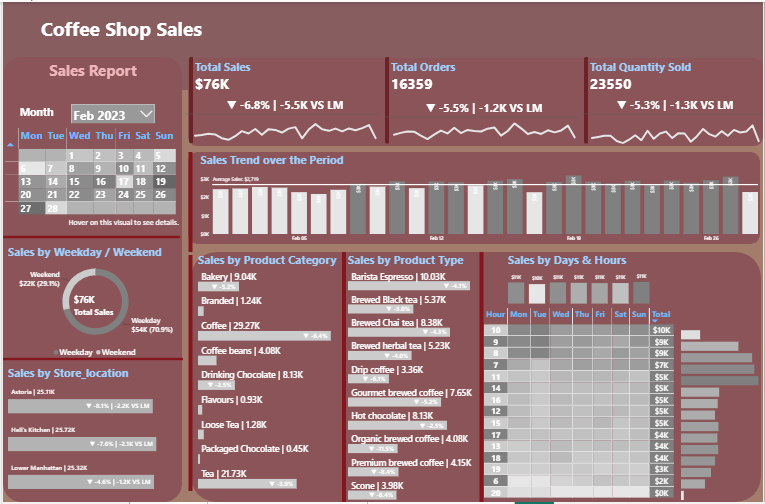

This screenshot's page, from the dashboard's own definition file:
{"tool":"powerbi","page":{"name":"Report","canvas":[1900,1250],"ordinal":0},"visuals":[{"type":"shape","box":[0,0,1900,220],"z":0},{"type":"cardVisual","fields":{"Data":["Transactions.Total Quantity Sold"]},"box":[1438.3,137.5,456.7,217.8],"z":0,"group":"g3"},{"type":"shape","box":[0,137.5,447.5,1112.5],"z":1000},{"type":"group","id":"g1","title":"Group 1","box":[450,137.5,492.9,215.5],"z":1000,"group":"g3"},{"type":"group","id":"g2","title":"Group 1","box":[939.5,137.5,498.5,222.5],"z":2000,"group":"g3"},{"type":"shape","box":[462.5,140,1437.5,220],"z":2000},{"type":"textbox","box":[85,27.5,465,82.5],"z":3000},{"type":"lineChart","fields":{"Category":["Date Table.Date Hierarchy.Date"],"Y":["Transactions.Total Quantity Sold"]},"box":[1447,238.2,451.7,117.1],"z":3000,"group":"g3"},{"type":"cardVisual","fields":{"Data":["Transactions.Total Sales"]},"box":[450,137.5,489.2,215.5],"z":4000,"group":"g1"},{"type":"cardVisual","fields":{"Data":["Transactions.Total Orders"]},"box":[939.5,137.5,491.7,217.8],"z":4000,"group":"g2"},{"type":"slicer","fields":{"Values":["Date Table.Month Year"]},"box":[160,250,225,52.5],"z":4000},{"type":"group","id":"g3","title":"Group 2","box":[450,137.5,1448.8,222.5],"z":5000},{"type":"lineChart","fields":{"Y":["Transactions.Total Sales"],"Category":["Date Table.Date Hierarchy.Date"]},"box":[456.2,238.2,486.7,114.8],"z":6000,"group":"g1"},{"type":"lineChart","fields":{"Category":["Date Table.Date Hierarchy.Date"],"Y":["Transactions.Total Orders"]},"box":[951.4,245.2,486.7,114.8],"z":6000,"group":"g2"},{"type":"pivotTable","fields":{"Rows":["Date Table.Week Number"],"Columns":["Date Table.Day Name"],"Values":["Min(Date Table.Day Number)"]},"box":[0,315,447.5,272.5],"z":6000},{"type":"cardVisual","fields":{"Data":["Min(Transactions.Foot Note)"]},"box":[135,517.5,460,62.5],"z":7000},{"type":"shape","box":[0,550,442.5,75],"z":8000},{"type":"donutChart","title":"Sales by Weekday / Weekend","fields":{"Category":["Date Table.Weekday / Weekend"],"Y":["Transactions.Total Sales"]},"box":[7.5,605,442.5,287.5],"z":9000},{"type":"shape","box":[0,855,450,75],"z":10000},{"type":"cardVisual","fields":{"Data":["Transactions.Total Sales"]},"box":[160,710,275,97.5],"z":11000},{"type":"clusteredBarChart","title":"Sales by Store_location","fields":{"Category":["Transactions.store_location"],"Y":["Transactions.Placeholder","Transactions.Total Sales"]},"box":[7.5,907.5,442.5,320],"z":12000},{"type":"shape","box":[462.5,375,1430,230],"z":13000},{"type":"columnChart","title":"Sales Trend over the Period","fields":{"Category":["Transactions.transaction_date"],"Y":["Transactions.Total Sales"]},"box":[477.5,375,1410,230],"z":14000},{"type":"shape","box":[470,625,1425,625],"z":15000},{"type":"clusteredBarChart","title":"Sales by Product Category","fields":{"Y":["Transactions.Placeholder","Transactions.Total Sales"],"Category":["Transactions.product_category"]},"box":[477.5,625,375,597.5],"z":16000},{"type":"shape","box":[232.5,375,472.5,250],"z":17000},{"type":"shape","box":[237.5,632.5,462.5,590],"z":18000},{"type":"shape","box":[980,625,432.5,625],"z":19000},{"type":"clusteredBarChart","title":"Sales by Product Type","fields":{"Y":["Transactions.Placeholder","Transactions.Total Sales"],"Category":["Transactions.product_type"]},"box":[852.5,625,380,625],"z":20000},{"type":"shape","box":[632.5,625,440,625],"z":21000},{"type":"pivotTable","fields":{"Rows":["Transactions.Hour"],"Columns":["Date Table.Day Name"],"Values":["Transactions.Total Sales"]},"box":[1197.5,760,492.5,490],"z":22000},{"type":"barChart","fields":{"Category":["Transactions.Hour"],"Y":["Transactions.Total Sales"]},"box":[1690,807.5,210,442.5],"z":23000},{"type":"columnChart","title":"Sales by Days & Hours","fields":{"Category":["Date Table.Day Name"],"Y":["Transactions.Total Sales"]},"box":[1257.5,625,365,135],"z":24000},{"type":"textbox","box":[7.5,250,152.5,65],"z":25000},{"type":"textbox","box":[65,140,320,80],"z":26000}]}

Visuals, with their boxes in screenshot pixels (x1, y1, x2, y2), scaled from the page's 1900x1250 canvas onto the 765x504 screenshot:
shape: x1=0, y1=0, x2=764, y2=89
cardVisual - Transactions.Total Quantity Sold: x1=579, y1=55, x2=763, y2=143
shape: x1=0, y1=55, x2=180, y2=503
"Group 1" group: x1=181, y1=55, x2=380, y2=142
"Group 1" group: x1=378, y1=55, x2=579, y2=145
shape: x1=186, y1=56, x2=764, y2=145
textbox: x1=34, y1=11, x2=221, y2=44
lineChart - Date Table.Date Hierarchy.Date x Transactions.Total Quantity Sold: x1=583, y1=96, x2=764, y2=143
cardVisual - Transactions.Total Sales: x1=181, y1=55, x2=378, y2=142
cardVisual - Transactions.Total Orders: x1=378, y1=55, x2=576, y2=143
slicer - Date Table.Month Year: x1=64, y1=101, x2=155, y2=122
"Group 2" group: x1=181, y1=55, x2=764, y2=145
lineChart - Transactions.Total Sales x Date Table.Date Hierarchy.Date: x1=184, y1=96, x2=380, y2=142
lineChart - Date Table.Date Hierarchy.Date x Transactions.Total Orders: x1=383, y1=99, x2=579, y2=145
pivotTable - Date Table.Week Number x Date Table.Day Name: x1=0, y1=127, x2=180, y2=237
cardVisual - Min(Transactions.Foot Note): x1=54, y1=209, x2=240, y2=234
shape: x1=0, y1=222, x2=178, y2=252
"Sales by Weekday / Weekend" donutChart: x1=3, y1=244, x2=181, y2=360
shape: x1=0, y1=345, x2=181, y2=375
cardVisual - Transactions.Total Sales: x1=64, y1=286, x2=175, y2=326
"Sales by Store_location" clusteredBarChart: x1=3, y1=366, x2=181, y2=495
shape: x1=186, y1=151, x2=762, y2=244
"Sales Trend over the Period" columnChart: x1=192, y1=151, x2=760, y2=244
shape: x1=189, y1=252, x2=763, y2=503
"Sales by Product Category" clusteredBarChart: x1=192, y1=252, x2=343, y2=493
shape: x1=94, y1=151, x2=284, y2=252
shape: x1=96, y1=255, x2=282, y2=493
shape: x1=395, y1=252, x2=569, y2=503
"Sales by Product Type" clusteredBarChart: x1=343, y1=252, x2=496, y2=503
shape: x1=255, y1=252, x2=432, y2=503
pivotTable - Transactions.Hour x Date Table.Day Name: x1=482, y1=306, x2=680, y2=503
barChart - Transactions.Hour x Transactions.Total Sales: x1=680, y1=326, x2=764, y2=503
"Sales by Days & Hours" columnChart: x1=506, y1=252, x2=653, y2=306
textbox: x1=3, y1=101, x2=64, y2=127
textbox: x1=26, y1=56, x2=155, y2=89
